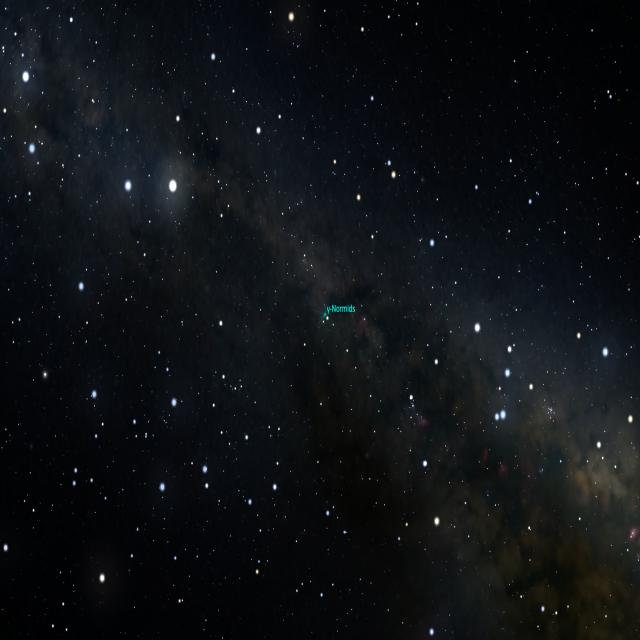Norma: (301, 249, 351, 358)
